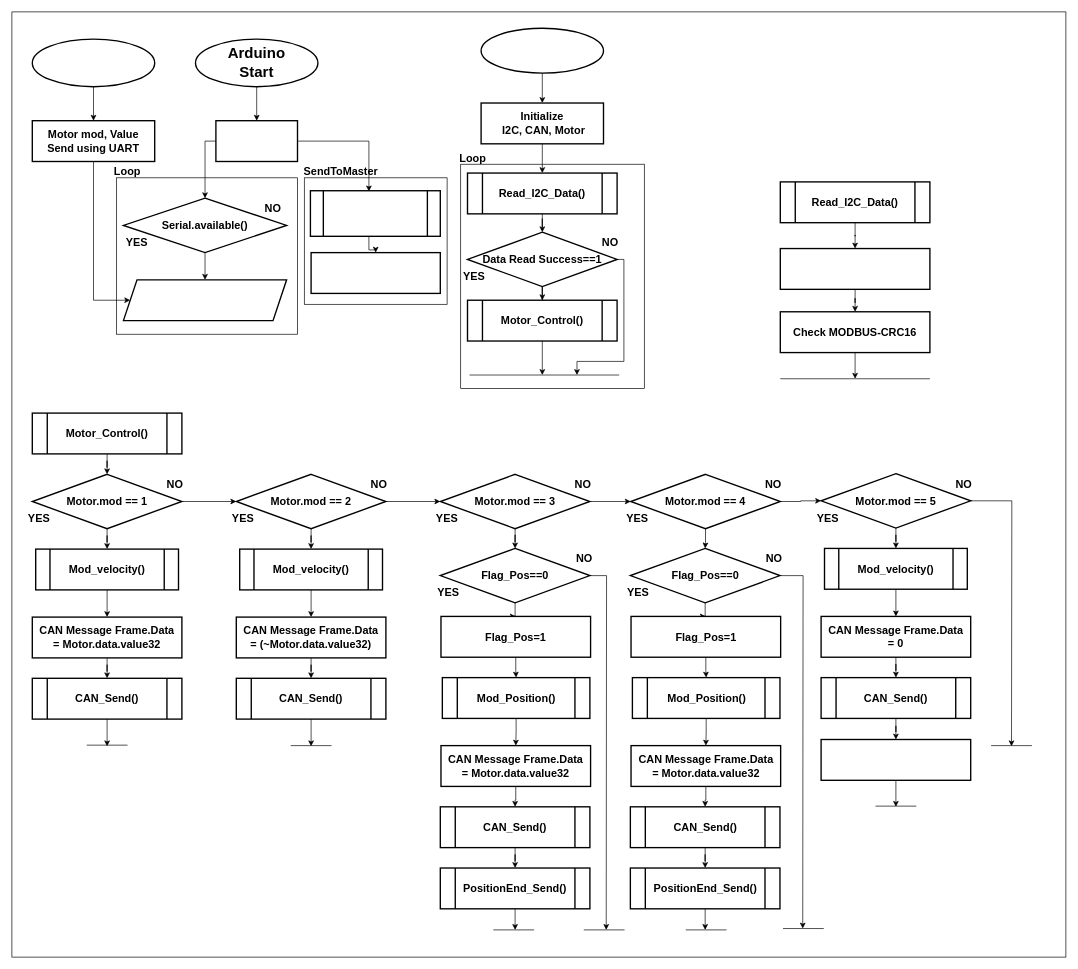
Some shapes in this 1078 by 969 pixel diagram are drawn without their labels. The centre of each missing label's shape, as x and y in pixels:
"Aurix Start" belongs at point 542,50.
"Flag_Pos=0" belongs at point 895,759.
"Initialize I2C, UART" belongs at point 256,141.
"MODBUS_CRC16()" belongs at point 375,213.
"Processing Start" belongs at point 93,62.
"Receive Input Data" belongs at point 204,300.
"Request I2C Data" belongs at point 854,269.
"Send Input Data using I2C" belongs at point 375,273.
